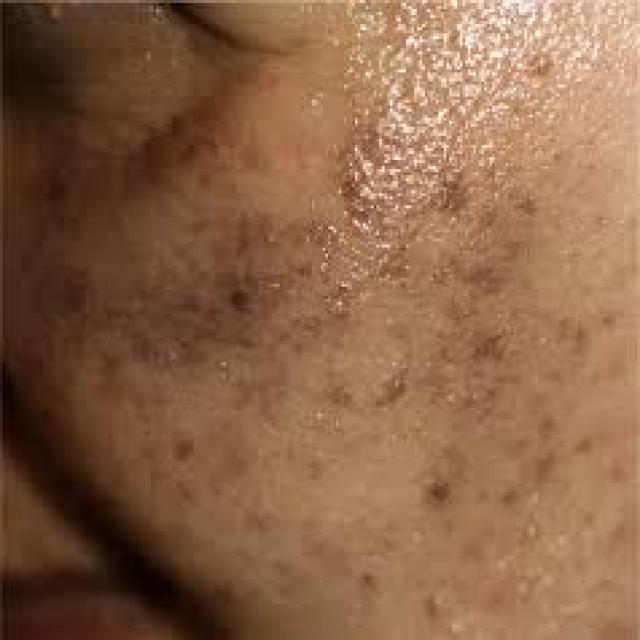pigmentation: (168, 0, 587, 337)
